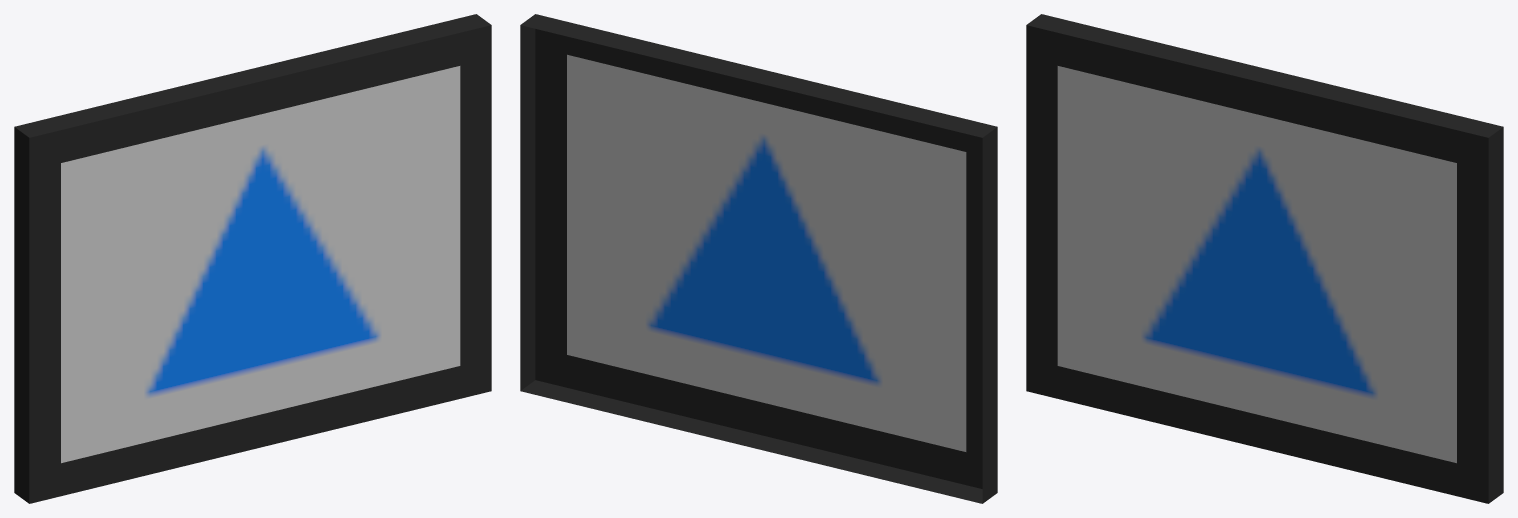
File: Paint_3.fbx
The picture shows the model from 3 angles, left to right: view 1: azimuth 30°, elevation 25°; view 2: azimuth 150°, elevation 25°; view 3: azimuth 330°, elevation 25°; orthographic projection.
Visible parts, largest first — view 1: polySurface1560; view 2: polySurface1560; view 3: polySurface1560.
Boxes of the visible parts, box(x1,y1,x2,y2) form: polySurface1560: box(14, 14, 491, 503); polySurface1560: box(520, 14, 997, 503); polySurface1560: box(1026, 14, 1503, 503).
Size of the model in its own units: 1.41 by 1.07 by 0.08.
Materials: 1 (1 with a texture image).
